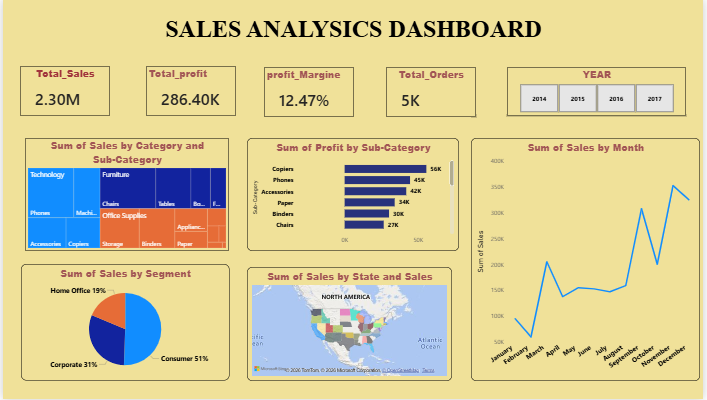

The dashboard page shown, as its layout file describes it:
{"tool":"powerbi","page":{"name":"Sales","canvas":[1400,800],"ordinal":0},"visuals":[{"type":"cardVisual","title":"Total_Sales","fields":{"Data":["Orders.total_sales"]},"box":[35,133.3,180,100],"z":0},{"type":"cardVisual","title":"Total_profit","fields":{"Data":["Orders.total_profit"]},"box":[286.7,133.3,180,100],"z":1000},{"type":"cardVisual","title":"profit_Margine","fields":{"Data":["Orders.profit_margine"]},"box":[521.7,136.7,180,100],"z":2000},{"type":"cardVisual","title":"Total_Orders","fields":{"Data":["Orders.total_orders"]},"box":[765,136.7,180,100],"z":3000},{"type":"pieChart","fields":{"Category":["Orders.Segment"],"Y":["Sum(Orders.Sales)"]},"box":[35,530,416.7,233.3],"z":4000},{"type":"lineChart","fields":{"Y":["Sum(Orders.Sales)"],"Category":["Orders.Order Date.Variation.Date Hierarchy.Month"]},"box":[936,278,458,486],"z":5000},{"type":"barChart","fields":{"Category":["Orders.Sub-Category"],"Y":["Sum(Orders.Profit)"]},"box":[488,278,424,226],"z":6000},{"type":"filledMap","fields":{"Category":["Orders.State"],"Series":["Orders.Sales"]},"box":[488,536,410,228],"z":7000},{"type":"treemap","fields":{"Group":["Orders.Category"],"Details":["Orders.Sub-Category"],"Values":["Sum(Orders.Sales)"]},"box":[44,278,408,226],"z":8000},{"type":"slicer","title":"YEAR","fields":{"Values":["Orders.Order Date.Variation.Date Hierarchy.Year"]},"box":[1008,136,358,98],"z":9000},{"type":"textbox","box":[18,26,1366,78],"z":10000}]}

Visuals, with their boxes in screenshot pixels (x1, y1, x2, y2), scaled from the page's 1400x800 canvas onto the 707x400 screenshot:
"Total_Sales" cardVisual: pyautogui.locateOnScreen(18, 67, 109, 117)
"Total_profit" cardVisual: pyautogui.locateOnScreen(145, 67, 236, 117)
"profit_Margine" cardVisual: pyautogui.locateOnScreen(263, 68, 354, 118)
"Total_Orders" cardVisual: pyautogui.locateOnScreen(386, 68, 477, 118)
pieChart - Orders.Segment x Sum(Orders.Sales): pyautogui.locateOnScreen(18, 265, 228, 382)
lineChart - Sum(Orders.Sales) x Orders.Order Date.Variation.Date Hierarchy.Month: pyautogui.locateOnScreen(473, 139, 704, 382)
barChart - Orders.Sub-Category x Sum(Orders.Profit): pyautogui.locateOnScreen(246, 139, 461, 252)
filledMap - Orders.State x Orders.Sales: pyautogui.locateOnScreen(246, 268, 453, 382)
treemap - Orders.Category x Orders.Sub-Category: pyautogui.locateOnScreen(22, 139, 228, 252)
"YEAR" slicer: pyautogui.locateOnScreen(509, 68, 690, 117)
textbox: pyautogui.locateOnScreen(9, 13, 699, 52)
